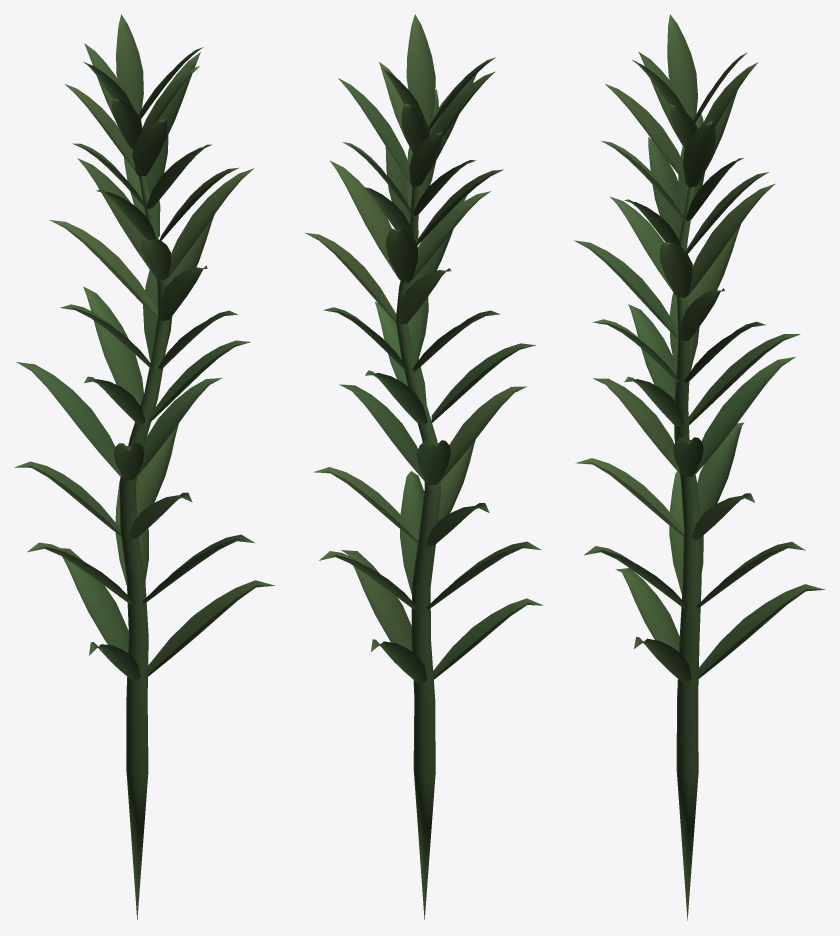
The model's file is underwater-aquatic-plants-waterweed_v9.fbx.
3 views of the same model, side by side, from view 1: azimuth 30°, elevation 25°; view 2: azimuth 150°, elevation 25°; view 3: azimuth 270°, elevation 25° (orthographic).
Parts seen in each view (by area): view 1: Waterweed_v9; view 2: Waterweed_v9; view 3: Waterweed_v9.
Boxes of the visible parts, <box> form: Waterweed_v9: <box>14,14,274,919</box>; Waterweed_v9: <box>304,14,543,919</box>; Waterweed_v9: <box>574,14,824,920</box>.
Size of the model in its own units: 0.1602 by 0.6 by 0.1557.
